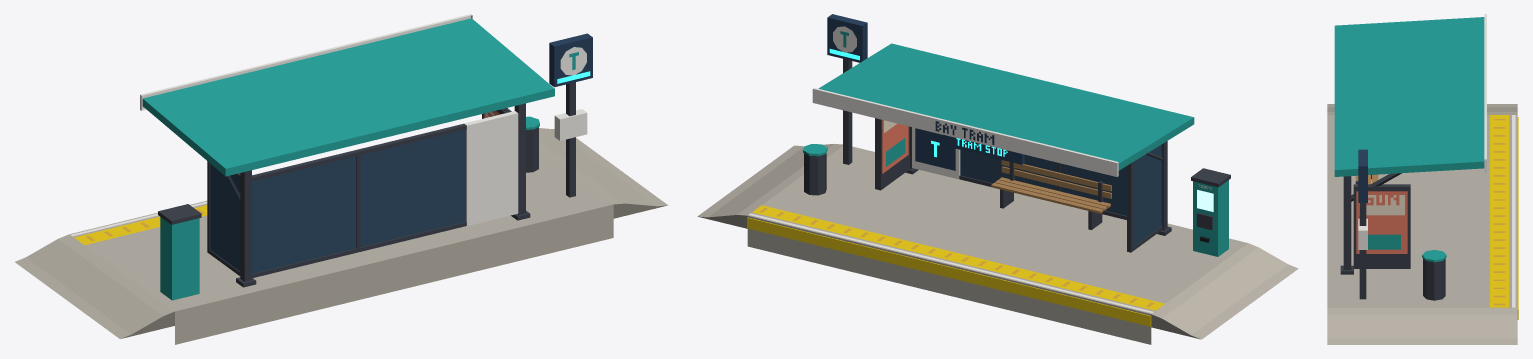
Rendered from tram_stop.glb.
3 views of the same model, side by side, from view 1: azimuth 30°, elevation 25°; view 2: azimuth 150°, elevation 25°; view 3: azimuth 270°, elevation 25° (orthographic). The views are drawn at different scales.
Parts seen in each view (by area): view 1: Building, Building_Glass, Building_Detail; view 2: Building, Building_Detail, Building_Glass, Building_Neon; view 3: Building, Building_Detail.
Part boxes in pixels (box(x1,y1,x2,y2)): Building: box(15, 18, 667, 344); Building_Glass: box(210, 129, 465, 273); Building_Detail: box(70, 14, 592, 244); Building: box(697, 43, 1298, 344); Building_Detail: box(747, 14, 1213, 326); Building_Glass: box(960, 144, 1161, 246); Building_Neon: box(829, 49, 1007, 157); Building: box(1327, 17, 1517, 344); Building_Detail: box(1356, 14, 1518, 319).
Size of the model in its own units: 12 by 3.95 by 4.02.
